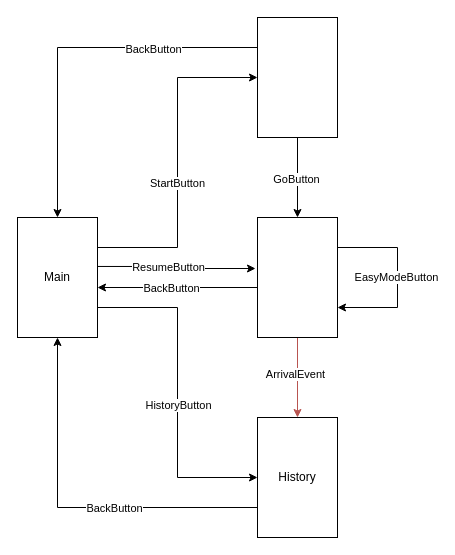
Some shapes in this 455 by 555 pixel diagram are drawn without their labels. The box of each missing label's shape, as (x1, y1, x2, y2) in pixels:
Navigation: (256, 216, 338, 338)
Navigation Options: (256, 16, 338, 138)
